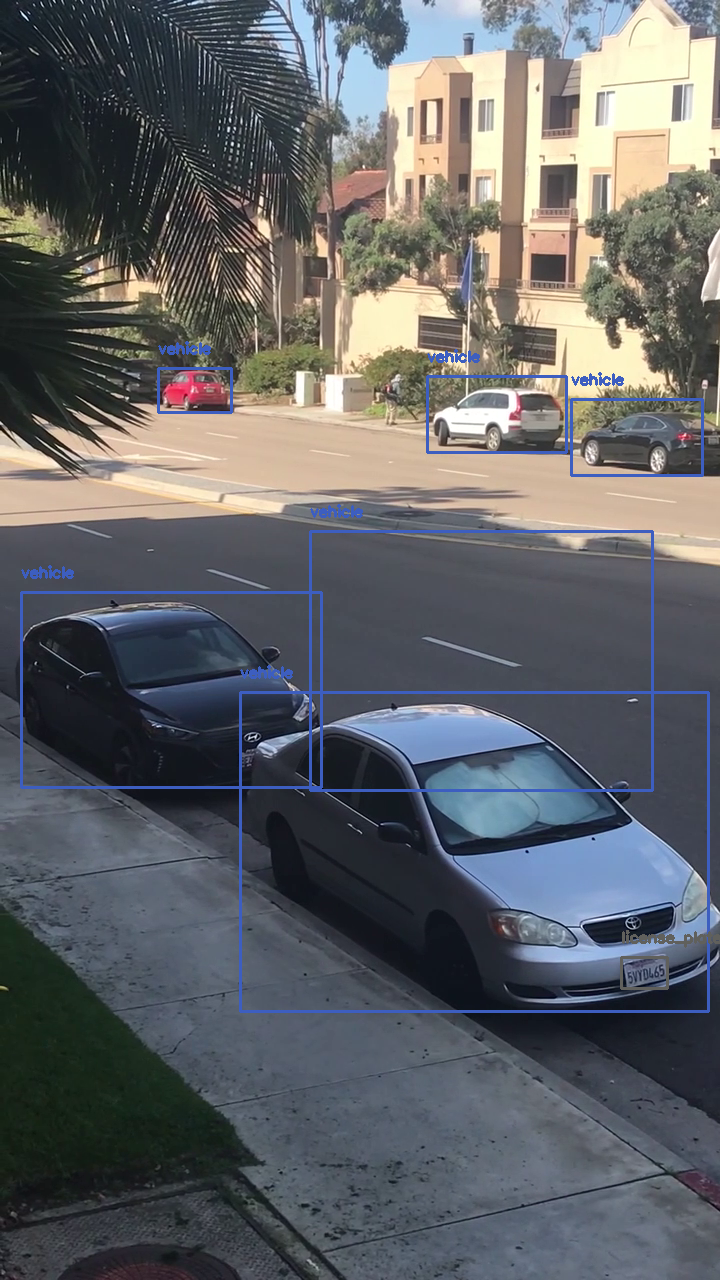license_plate: (621, 957, 667, 988)
vehicle: (240, 692, 708, 1011), (310, 531, 652, 790), (21, 592, 321, 787), (427, 376, 566, 452), (571, 399, 702, 475), (158, 368, 231, 412)
